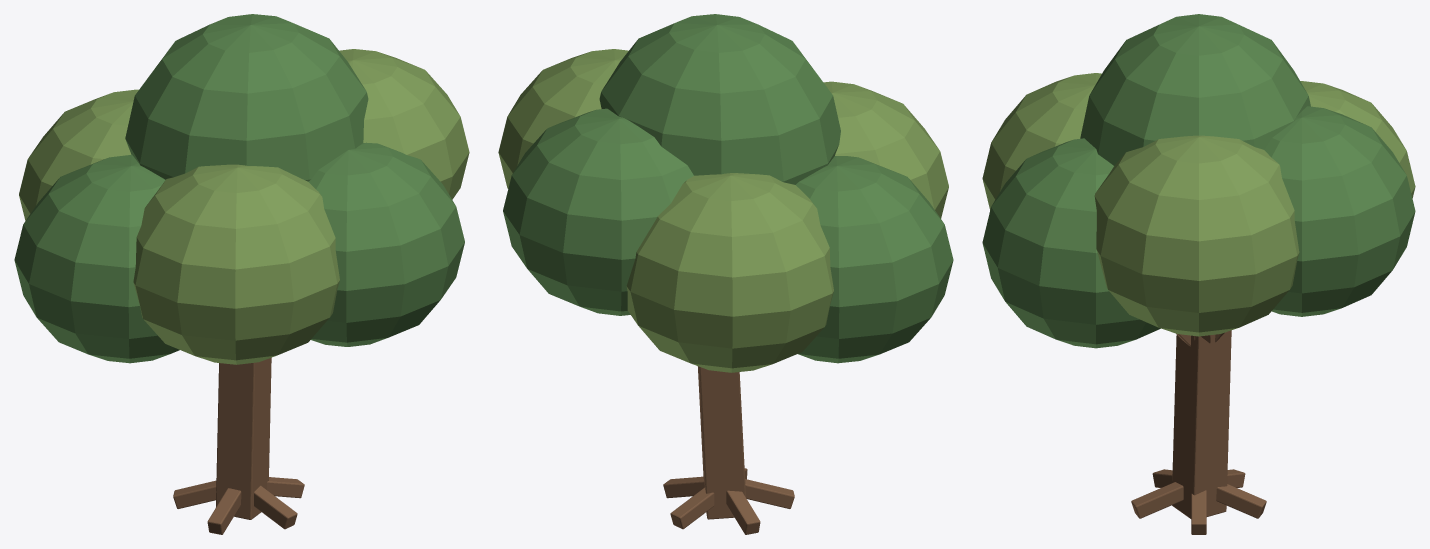
The model's file is oak_tree.glb.
3 views of the same model, side by side, from view 1: azimuth 30°, elevation 25°; view 2: azimuth 150°, elevation 25°; view 3: azimuth 270°, elevation 25° (orthographic).
Visible parts, largest first — view 1: SceneryRuntime; view 2: SceneryRuntime; view 3: SceneryRuntime.
Part boxes in pixels (box(x1,y1,x2,y2)): SceneryRuntime: box(14, 14, 469, 534); SceneryRuntime: box(498, 14, 953, 534); SceneryRuntime: box(982, 14, 1415, 534).
Bounding box in the file's own units: 4.8 × 5.21 × 4.19.
